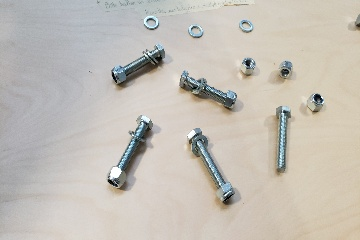Bolt: (273, 105, 293, 173)
FalseAssembly: (182, 127, 240, 212), (104, 113, 160, 188)
FinishedAssembly: (110, 42, 169, 88), (180, 70, 240, 113)
Nut: (306, 93, 326, 114), (276, 61, 295, 80), (239, 58, 257, 76)
Washer: (140, 15, 161, 31), (186, 24, 205, 41), (236, 17, 254, 33)
